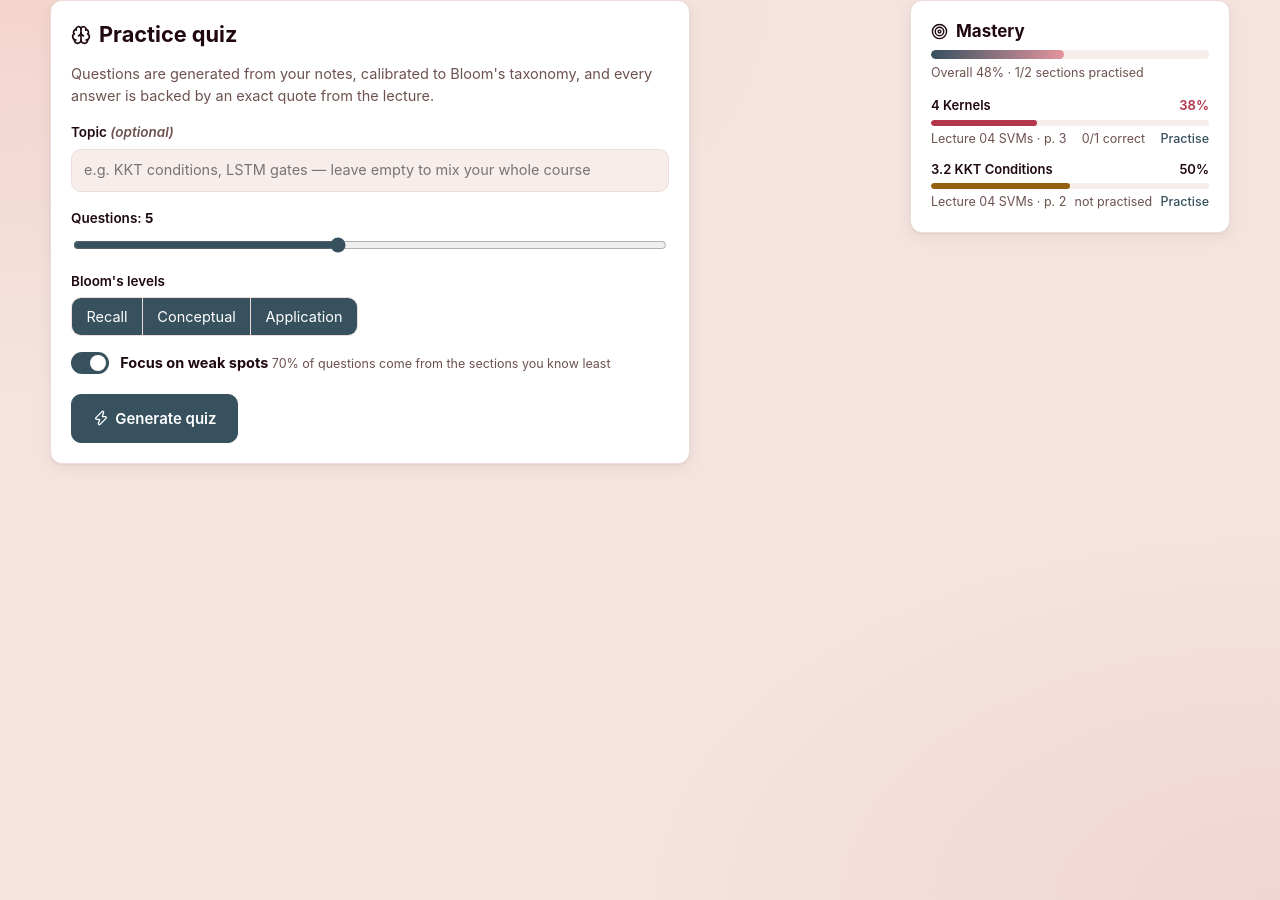
Test: Quiz › returns to setup when the request is rejected
This screenshot has width=1280, height=900.
Click the button "Generate quiz": (155, 418) [71,394,238,443]
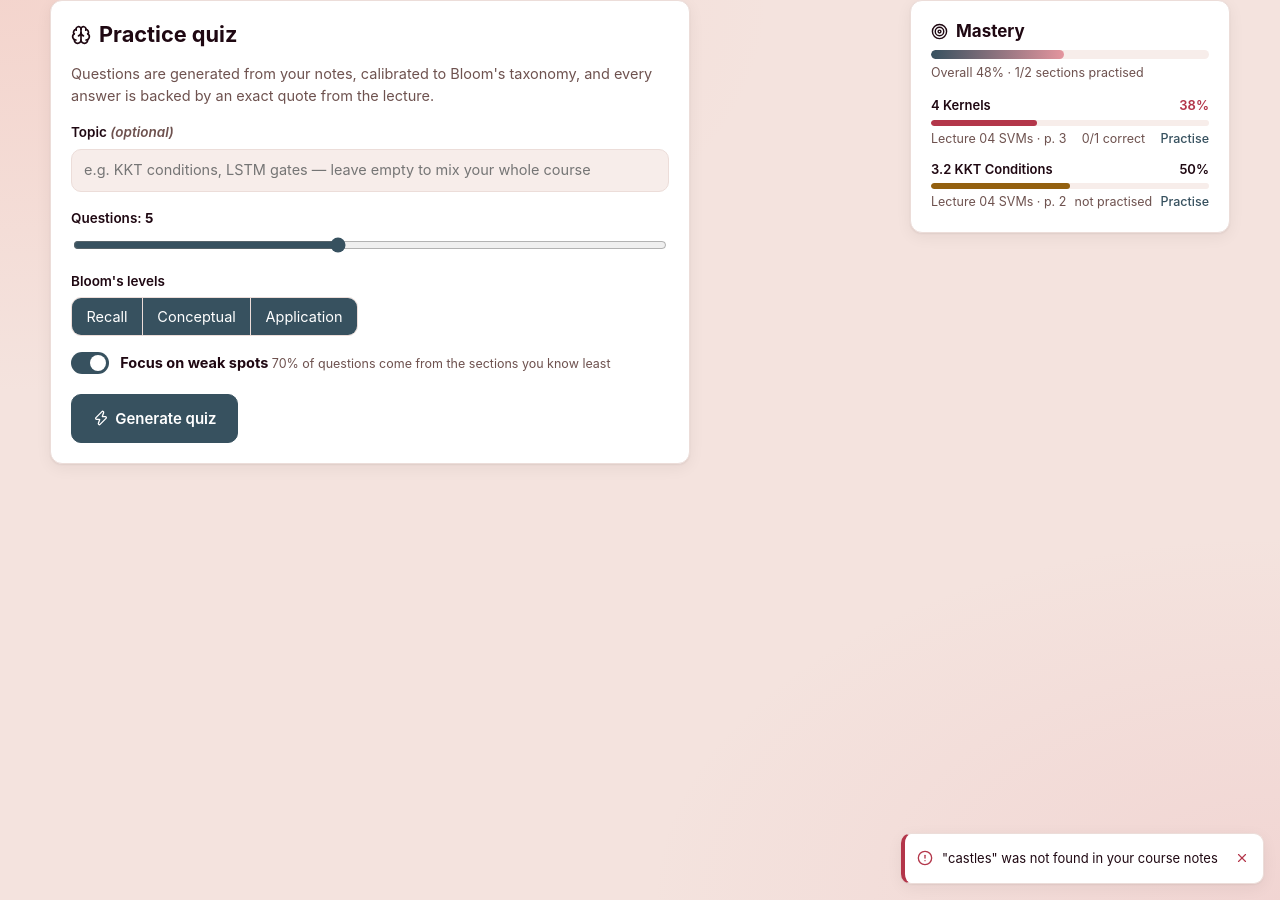
Expected: the text "\"castles\" was not found in your course notes" is shown, [942,848,1218,868]
